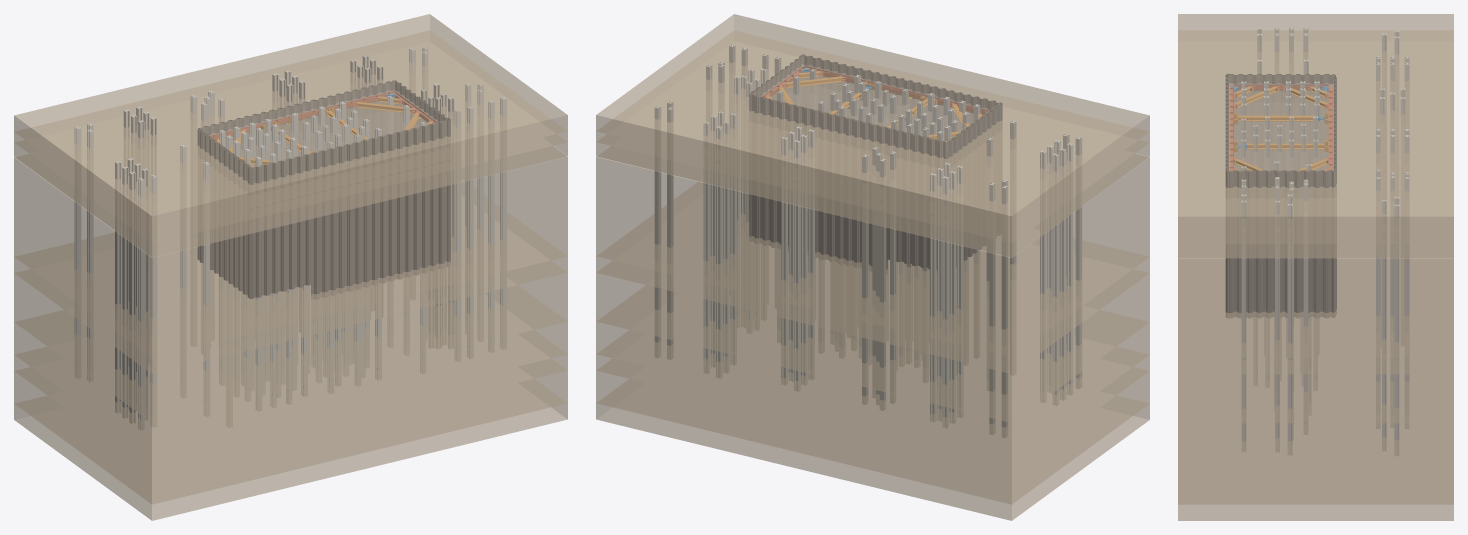
File: sheetpile.glb
3 views of the same model, side by side, from view 1: azimuth 30°, elevation 25°; view 2: azimuth 150°, elevation 25°; view 3: azimuth 270°, elevation 25° (orthographic).
Visible parts, largest first — view 1: STS_L3b_SoftClay_-3.8_to_-13.0m, STS_L1_Fill_0_to_-1.5m, STS_L4_StiffClay_-19.0_to_-22.0m, STS_L2_MedStiffClay_-1.5_to_-2.5m, STS_L3d_SoftClay_-14.5_to_-19.0m, STS_L3c_SandLens_-13.0_to_-14.5m, STS_L6_MedSand_-23.5_to_-26.5m, STS_L7_DenseSand_-26.5_to_-28.0m, STS_L5_SandyClay_-22.0_to_-23.5m, STS_L3a_SoftClay_-2.5_to_-3.8m, Excavation_Stage1_L1_0_to_-1.5m, PILE_P90 (+22 smaller); view 2: STS_L3b_SoftClay_-3.8_to_-13.0m, STS_L1_Fill_0_to_-1.5m, STS_L4_StiffClay_-19.0_to_-22.0m, STS_L2_MedStiffClay_-1.5_to_-2.5m, STS_L3d_SoftClay_-14.5_to_-19.0m, STS_L3c_SandLens_-13.0_to_-14.5m, STS_L6_MedSand_-23.5_to_-26.5m, STS_L7_DenseSand_-26.5_to_-28.0m, STS_L5_SandyClay_-22.0_to_-23.5m, STS_L3a_SoftClay_-2.5_to_-3.8m, Excavation_Stage1_L1_0_to_-1.5m, Excavation_Stage2_L2_-1.5_to_-2.5m (+31 smaller); view 3: STS_L1_Fill_0_to_-1.5m, STS_L2_MedStiffClay_-1.5_to_-2.5m, STS_L3b_SoftClay_-3.8_to_-13.0m, STS_L3c_SandLens_-13.0_to_-14.5m, STS_L4_StiffClay_-19.0_to_-22.0m, STS_L3d_SoftClay_-14.5_to_-19.0m, STS_L7_DenseSand_-26.5_to_-28.0m, STS_L6_MedSand_-23.5_to_-26.5m, STS_L5_SandyClay_-22.0_to_-23.5m, Excavation_Stage1_L1_0_to_-1.5m, STS_L3a_SoftClay_-2.5_to_-3.8m, Excavation_Stage2_L2_-1.5_to_-2.5m (+33 smaller).
Boxes of the visible parts, bbox=[...] form: STS_L3b_SoftClay_-3.8_to_-13.0m: bbox=[14, 146, 567, 357]; STS_L1_Fill_0_to_-1.5m: bbox=[14, 14, 567, 232]; STS_L4_StiffClay_-19.0_to_-22.0m: bbox=[14, 285, 567, 455]; STS_L2_MedStiffClay_-1.5_to_-2.5m: bbox=[14, 30, 567, 243]; STS_L3d_SoftClay_-14.5_to_-19.0m: bbox=[14, 261, 567, 422]; STS_L3c_SandLens_-13.0_to_-14.5m: bbox=[14, 182, 567, 373]; STS_L6_MedSand_-23.5_to_-26.5m: bbox=[14, 359, 567, 504]; STS_L7_DenseSand_-26.5_to_-28.0m: bbox=[14, 379, 567, 520]; STS_L5_SandyClay_-22.0_to_-23.5m: bbox=[14, 330, 567, 471]; STS_L3a_SoftClay_-2.5_to_-3.8m: bbox=[14, 134, 567, 257]; Excavation_Stage1_L1_0_to_-1.5m: bbox=[200, 81, 447, 167]; PILE_P90: bbox=[454, 109, 461, 361]; STS_L3b_SoftClay_-3.8_to_-13.0m: bbox=[596, 146, 1149, 357]; STS_L1_Fill_0_to_-1.5m: bbox=[596, 14, 1149, 232]; STS_L4_StiffClay_-19.0_to_-22.0m: bbox=[596, 285, 1149, 455]; STS_L2_MedStiffClay_-1.5_to_-2.5m: bbox=[596, 30, 1149, 243]; STS_L3d_SoftClay_-14.5_to_-19.0m: bbox=[596, 261, 1149, 422]; STS_L3c_SandLens_-13.0_to_-14.5m: bbox=[596, 182, 1149, 373]; STS_L6_MedSand_-23.5_to_-26.5m: bbox=[596, 359, 1149, 504]; STS_L7_DenseSand_-26.5_to_-28.0m: bbox=[596, 379, 1149, 520]; STS_L5_SandyClay_-22.0_to_-23.5m: bbox=[596, 330, 1149, 471]; STS_L3a_SoftClay_-2.5_to_-3.8m: bbox=[596, 134, 1149, 257]; Excavation_Stage1_L1_0_to_-1.5m: bbox=[751, 56, 998, 141]; Excavation_Stage2_L2_-1.5_to_-2.5m: bbox=[771, 77, 972, 135]; STS_L1_Fill_0_to_-1.5m: bbox=[1178, 14, 1453, 232]; STS_L2_MedStiffClay_-1.5_to_-2.5m: bbox=[1178, 30, 1453, 243]; STS_L3b_SoftClay_-3.8_to_-13.0m: bbox=[1178, 244, 1453, 357]; STS_L3c_SandLens_-13.0_to_-14.5m: bbox=[1178, 258, 1453, 374]; STS_L4_StiffClay_-19.0_to_-22.0m: bbox=[1178, 374, 1453, 455]; STS_L3d_SoftClay_-14.5_to_-19.0m: bbox=[1178, 358, 1453, 423]; STS_L7_DenseSand_-26.5_to_-28.0m: bbox=[1178, 472, 1453, 520]; STS_L6_MedSand_-23.5_to_-26.5m: bbox=[1178, 456, 1453, 504]; STS_L5_SandyClay_-22.0_to_-23.5m: bbox=[1178, 423, 1453, 471]; Excavation_Stage1_L1_0_to_-1.5m: bbox=[1228, 75, 1333, 171]; STS_L3a_SoftClay_-2.5_to_-3.8m: bbox=[1178, 233, 1453, 257]; Excavation_Stage2_L2_-1.5_to_-2.5m: bbox=[1234, 92, 1328, 169].
Bounding box in the file's own units: 40 × 28 × 23.
